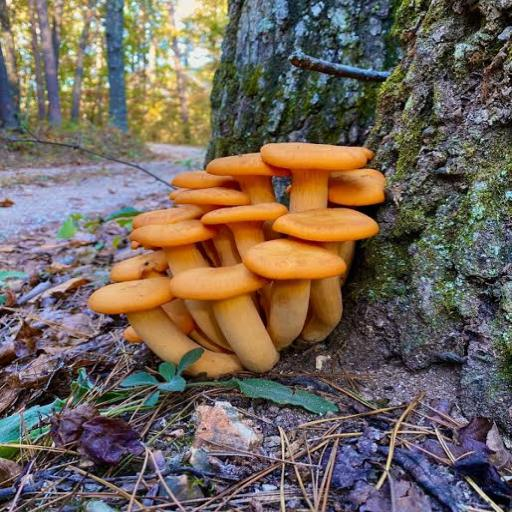Jack O Lantern Mushroom: (85, 280, 245, 386), (163, 266, 293, 369), (249, 241, 346, 351), (254, 138, 383, 210), (129, 214, 218, 271), (272, 207, 384, 250), (203, 201, 288, 254), (204, 152, 287, 205), (323, 162, 391, 209), (169, 183, 242, 212), (168, 168, 237, 192), (105, 252, 163, 279)
